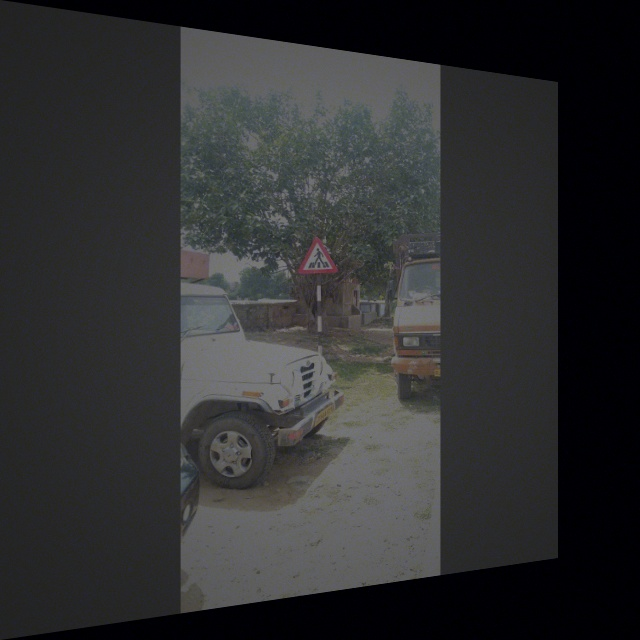Pedestrian_Crossing: (293, 228, 347, 278)
